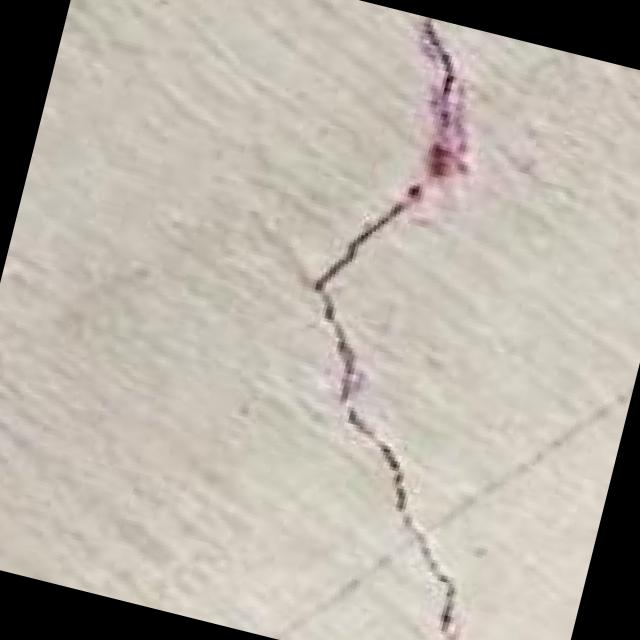crack: (209, 1, 640, 640)
